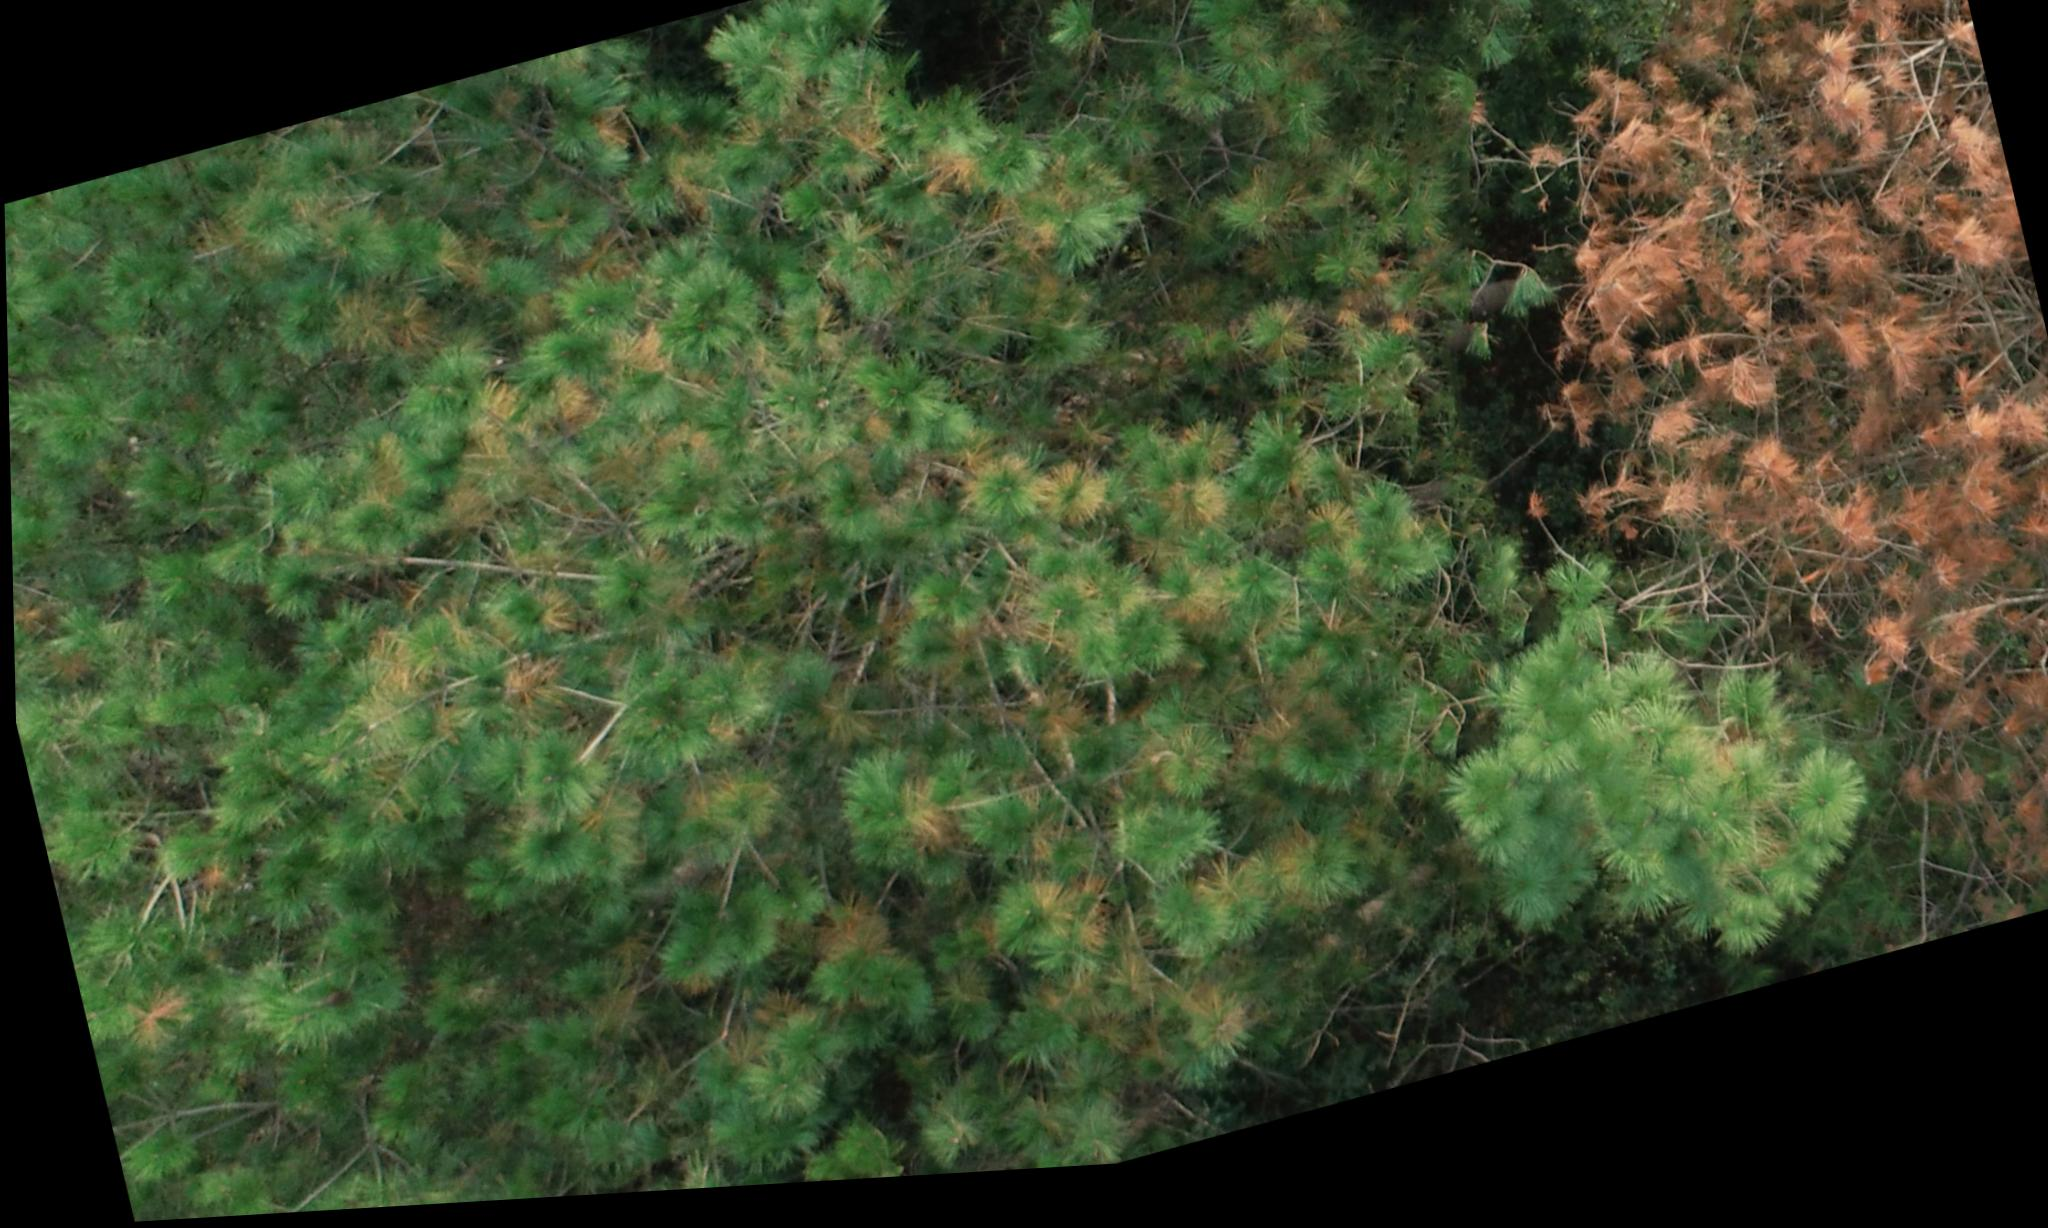heavy: (1446, 0, 2048, 971)
light: (22, 0, 1465, 1227)
